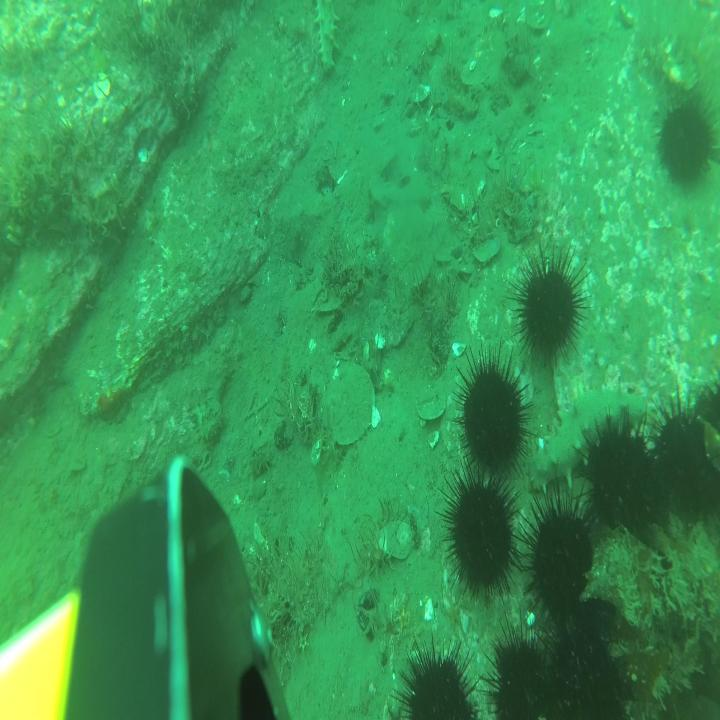echinus: (440, 455, 521, 608), (521, 474, 599, 626), (453, 343, 535, 482), (578, 408, 654, 551), (509, 246, 592, 371), (538, 619, 620, 720), (654, 392, 712, 527), (394, 637, 482, 720), (485, 614, 549, 720), (657, 91, 720, 198), (696, 386, 720, 514)
holothurian: (528, 391, 648, 493), (314, 0, 337, 71)
scallop: (326, 364, 376, 448), (380, 519, 414, 562), (417, 396, 446, 422)
